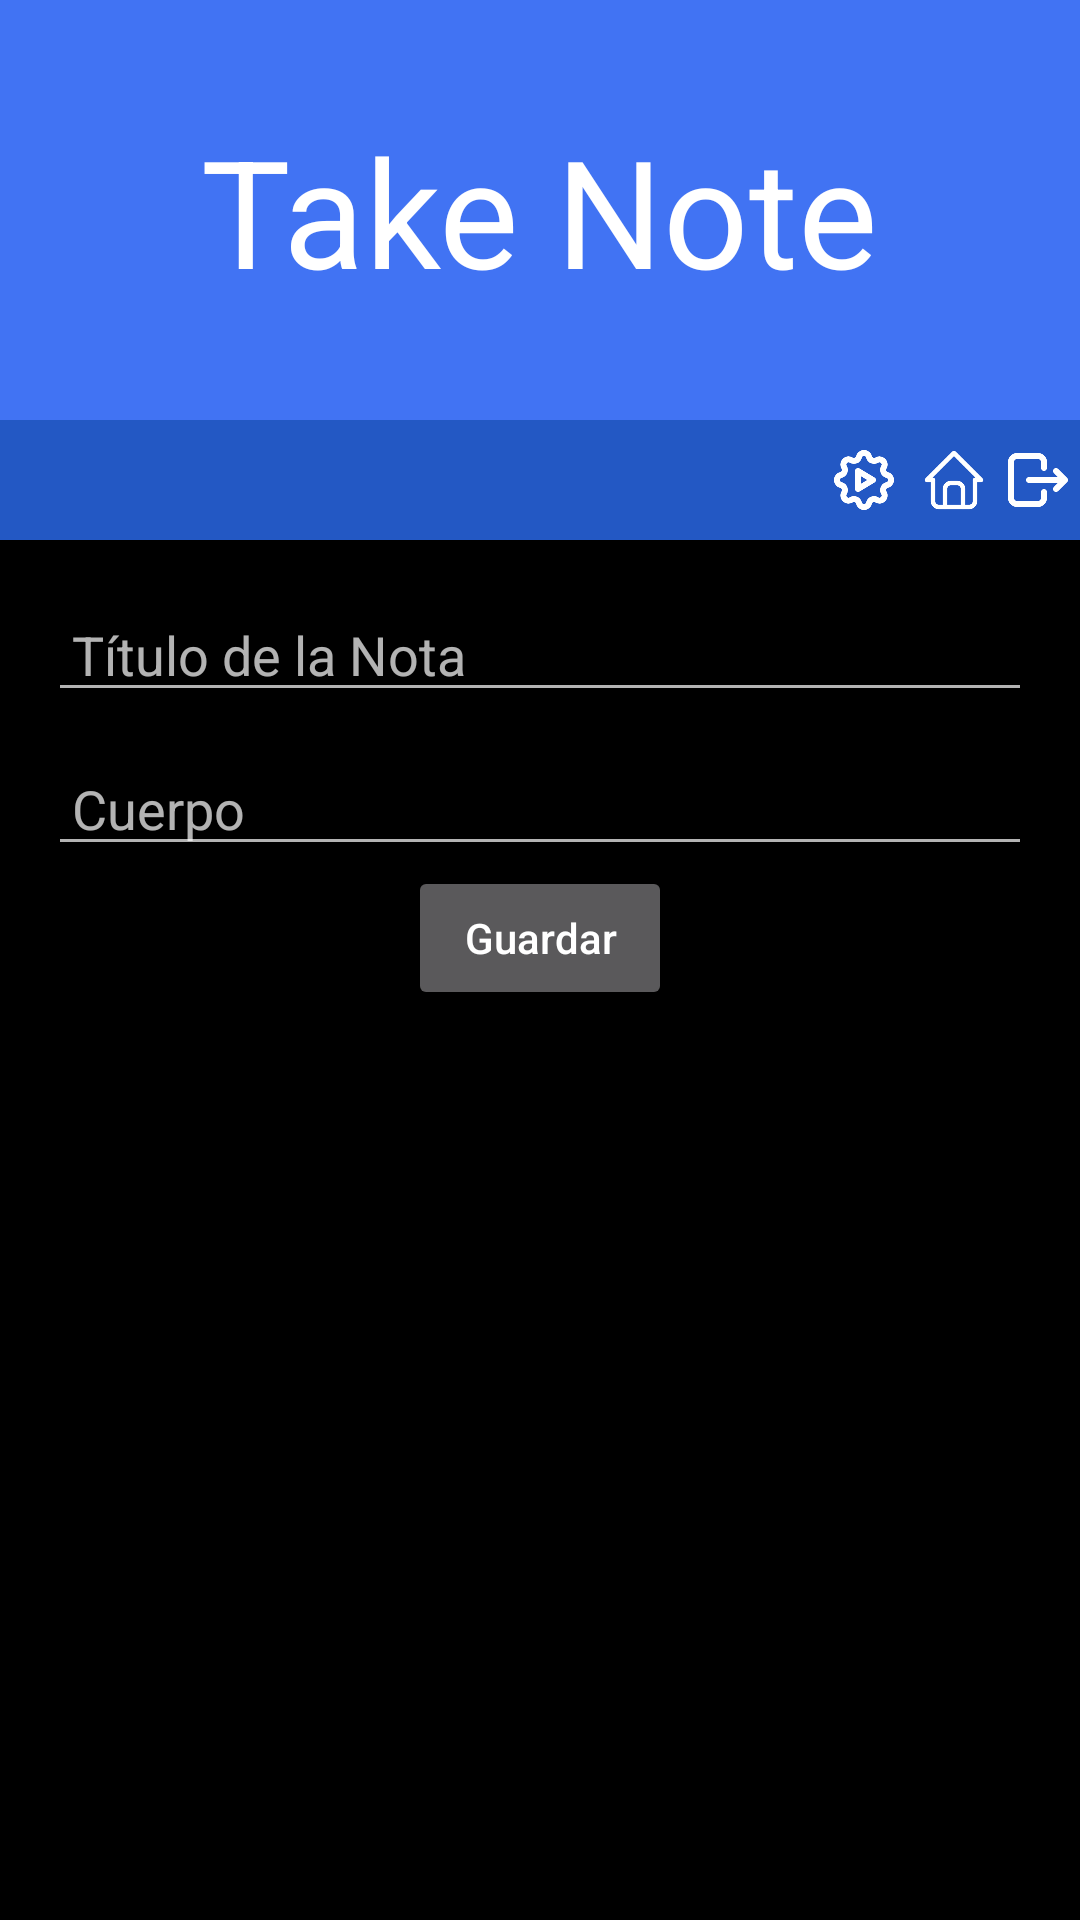

Point at icon controls on the screen. Image size 1080px×1920px, points as [x,y].
Click para ir a ajustes: [864,480]
Click para ir al inicio: [954,480]
